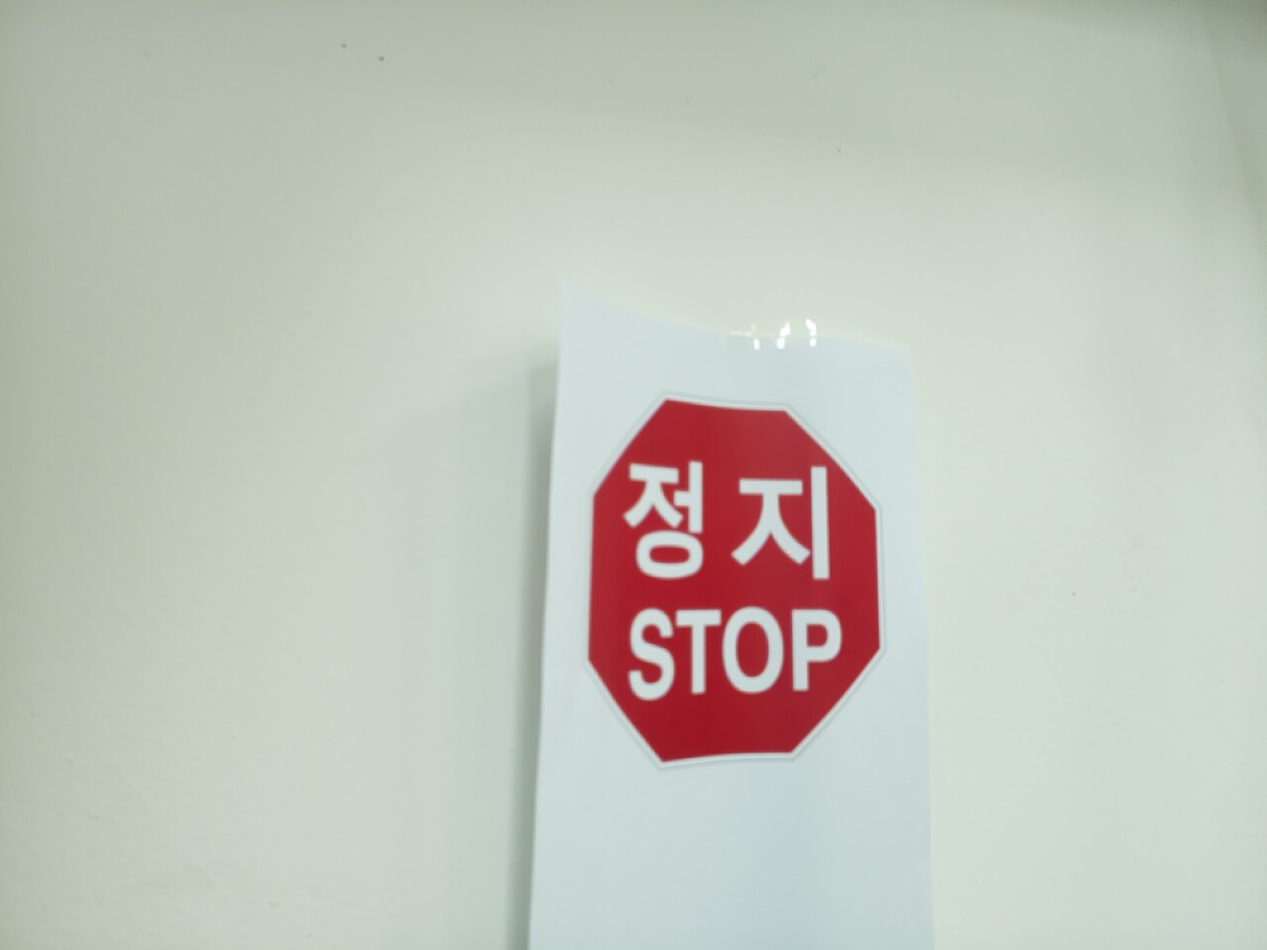stop: (578, 389, 890, 773)
